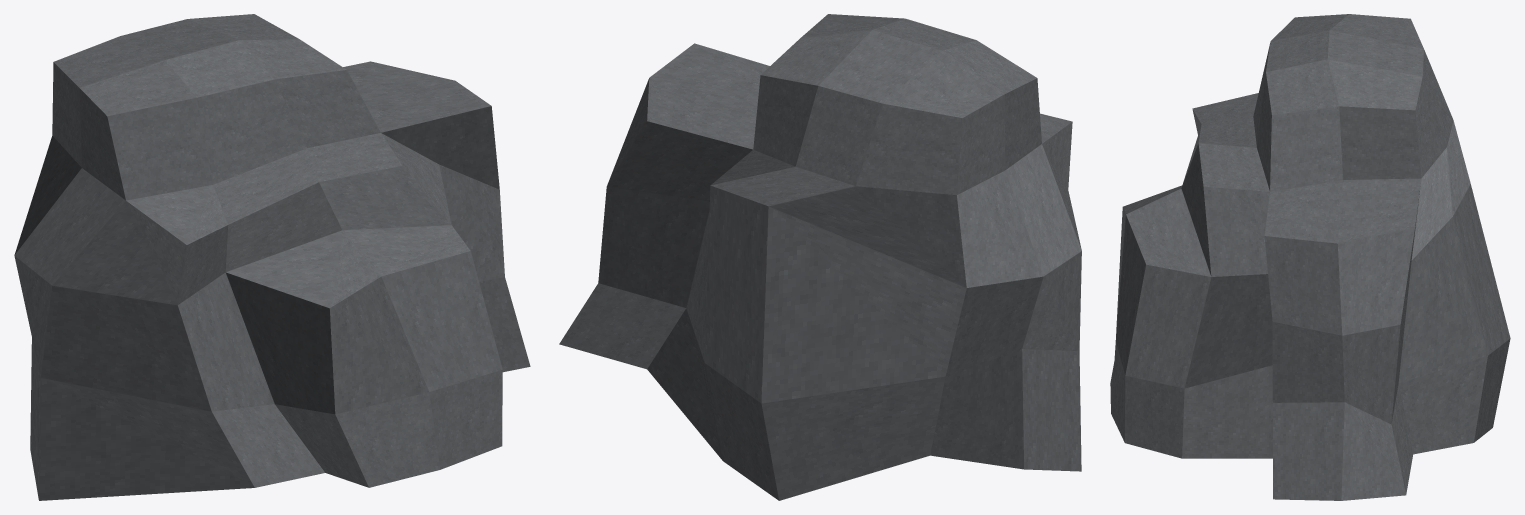
File: BigRock3.glb
3 views of the same model, side by side, from view 1: azimuth 30°, elevation 25°; view 2: azimuth 150°, elevation 25°; view 3: azimuth 270°, elevation 25° (orthographic). The views are drawn at different scales.
Visible parts, largest first — view 1: BigRock3; view 2: BigRock3; view 3: BigRock3.
Part boxes in pixels (x1,y1,x2,y2): BigRock3: [14, 14, 530, 500]; BigRock3: [559, 14, 1081, 500]; BigRock3: [1110, 14, 1510, 500].
Size of the model in its own units: 11.51 by 9.42 by 9.3.
Materials: 1 (1 with a texture image).
